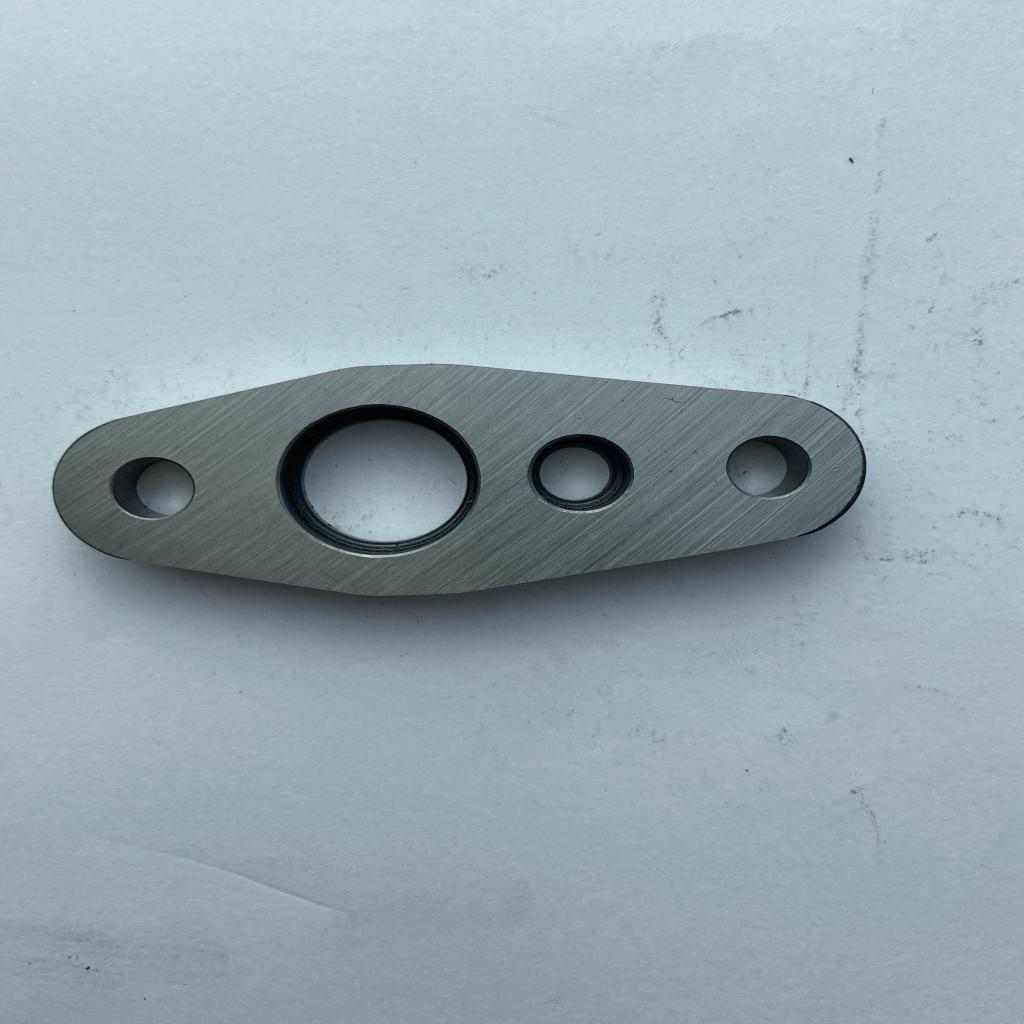chap: (830, 464, 840, 472), (576, 414, 584, 422), (706, 542, 714, 550)
